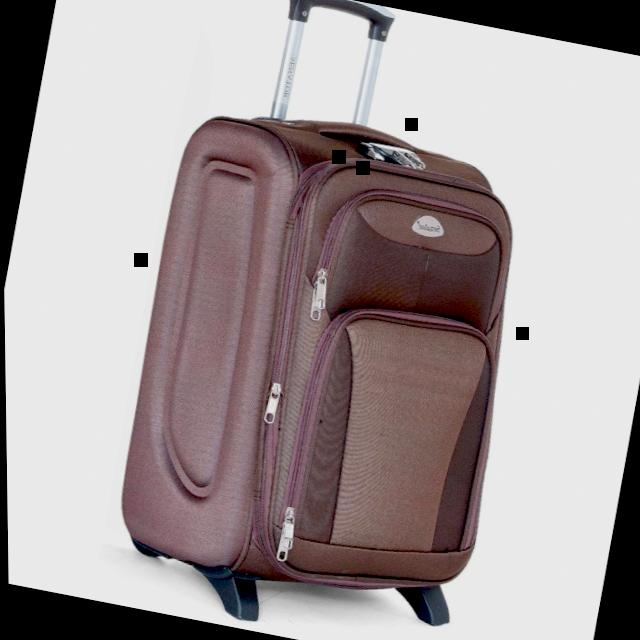luggage: (91, 84, 556, 630)
